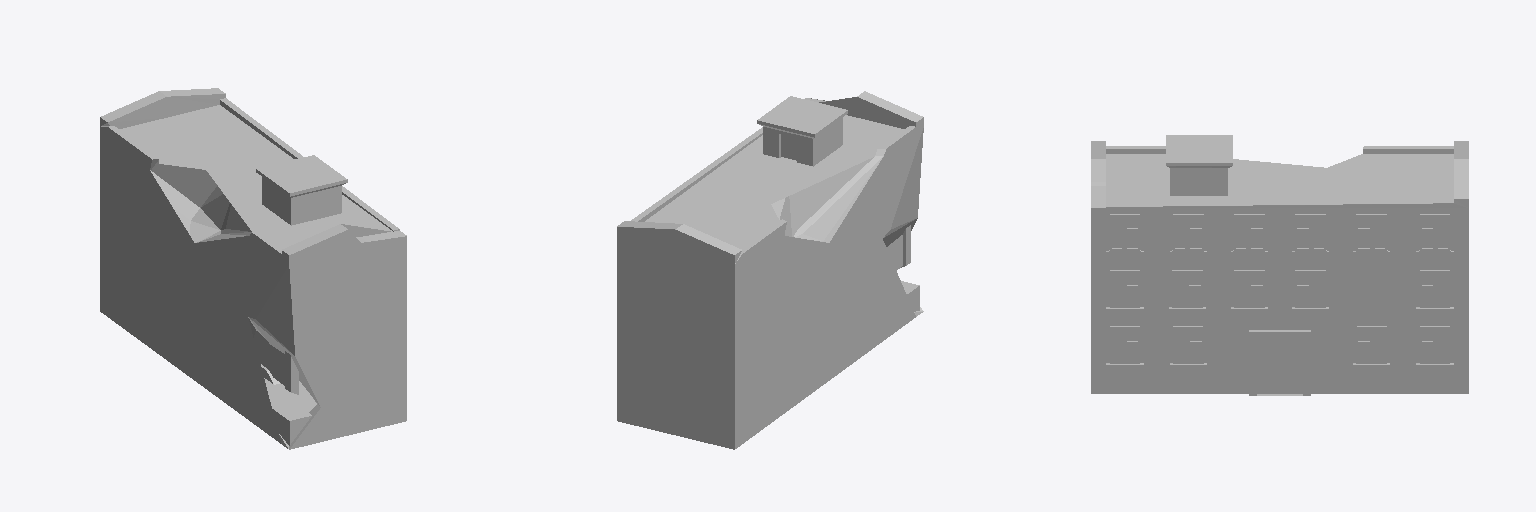
Rendered from build1.obj.
3 views of the same model, side by side, from view 1: azimuth 30°, elevation 25°; view 2: azimuth 150°, elevation 25°; view 3: azimuth 270°, elevation 25° (orthographic).
Parts seen in each view (by area): view 1: Cube, Cube.001, Cube.018_Cube.027, Cube.019_Cube.028, Cube.017_Cube.026; view 2: Cube, Cube.001; view 3: Cube, Cube.010_Cube.016, Cube.001, Cube.004_Cube.002, Cube.002_Cube.004, Cube.008, Cube.009_Cube.019, Cube.003, Cube.007_Cube.006, Cube.006_Cube.015, Cube.005_Cube.012.
Part boxes in pixels (bbox=[...]): Cube: bbox=[100, 88, 406, 449]; Cube.001: bbox=[256, 155, 347, 225]; Cube.018_Cube.027: bbox=[264, 378, 316, 445]; Cube.019_Cube.028: bbox=[254, 331, 284, 385]; Cube.017_Cube.026: bbox=[261, 351, 298, 394]; Cube: bbox=[617, 91, 923, 449]; Cube.001: bbox=[757, 96, 847, 166]; Cube: bbox=[1091, 141, 1468, 393]; Cube.010_Cube.016: bbox=[1249, 330, 1310, 395]; Cube.001: bbox=[1166, 135, 1232, 195]; Cube.004_Cube.002: bbox=[1170, 214, 1389, 253]; Cube.002_Cube.004: bbox=[1231, 214, 1328, 253]; Cube.008: bbox=[1231, 270, 1328, 309]; Cube.009_Cube.019: bbox=[1170, 326, 1389, 365]; Cube.003: bbox=[1106, 214, 1453, 253]; Cube.007_Cube.006: bbox=[1106, 270, 1453, 309]; Cube.006_Cube.015: bbox=[1106, 326, 1453, 365]; Cube.005_Cube.012: bbox=[1169, 270, 1205, 309].
Bounding box in the file's own units: 4.86 × 8.33 × 12.98.